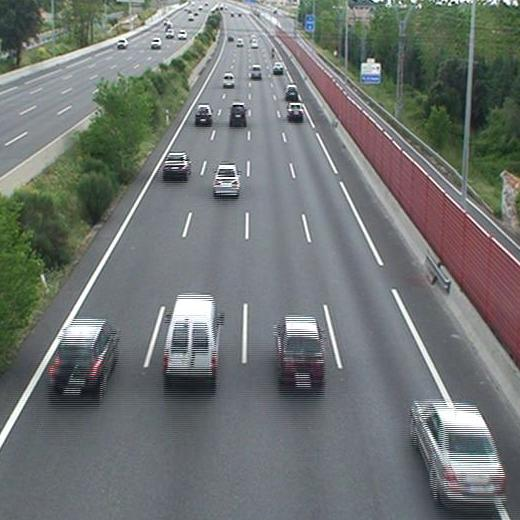car: (411, 403, 507, 506), (50, 319, 117, 394), (278, 319, 324, 384), (213, 164, 239, 195), (163, 154, 190, 177), (230, 105, 247, 121), (195, 106, 212, 122), (288, 102, 302, 119), (222, 74, 235, 87), (285, 85, 297, 98), (252, 66, 262, 79), (273, 63, 283, 73), (251, 38, 258, 50)
van: (164, 295, 218, 381)
